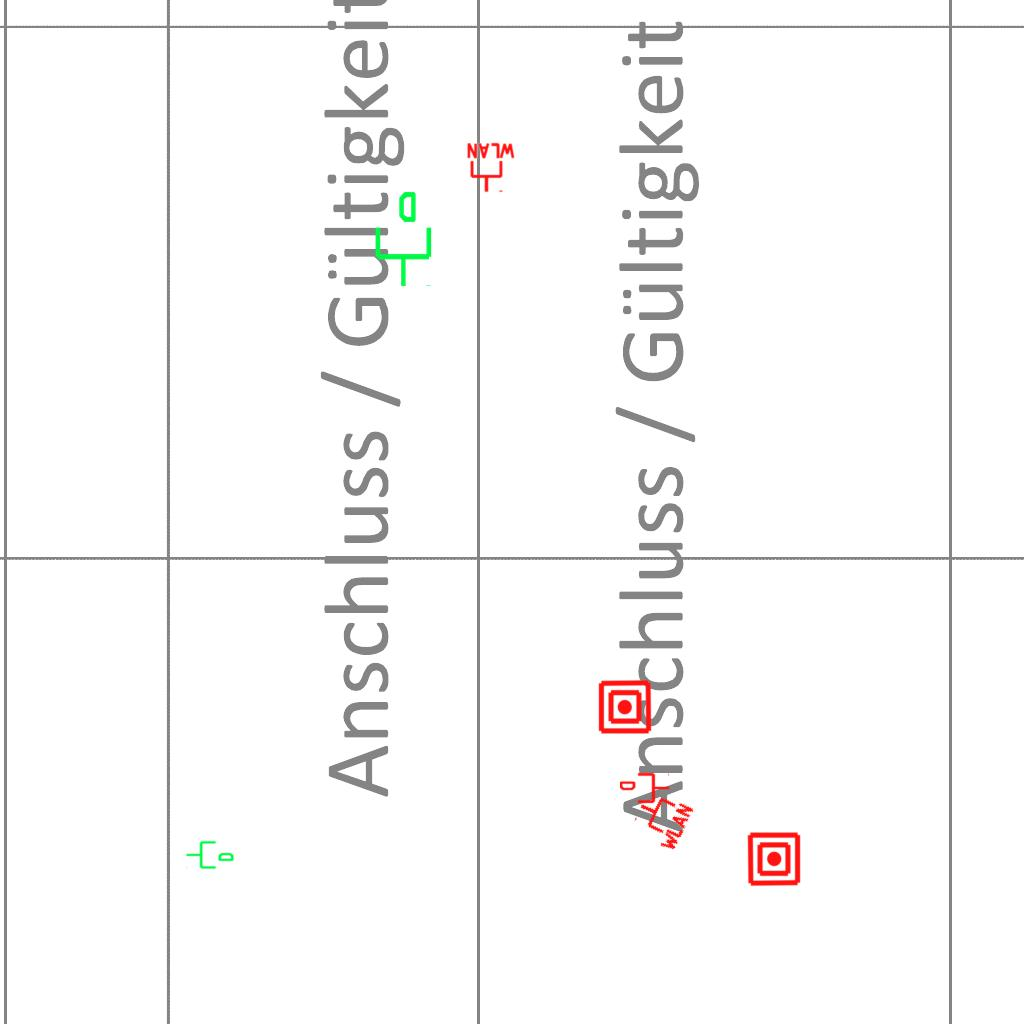Datenanschluss_einfach: (367, 189, 436, 289), (620, 771, 670, 805), (185, 837, 235, 871)
NAM-Nichtautomatischer_Melder: (746, 831, 802, 887), (597, 679, 653, 735)
WLAN: (626, 785, 696, 855), (465, 142, 517, 194)
